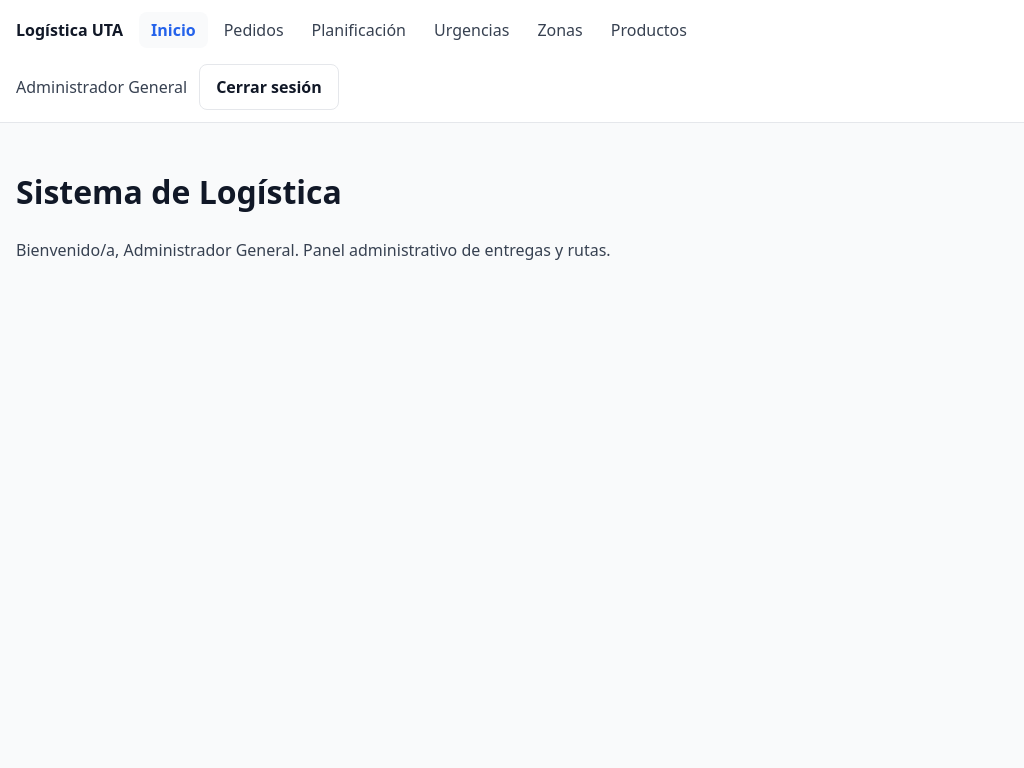
App › navega a Zonas desde el menú principal y marca la opción activa
What coordinates should you click on to do the following:
click the link "Zonas"
I would click on:
 (560, 30)
Its box is top-left (537, 19), bottom-right (583, 41).
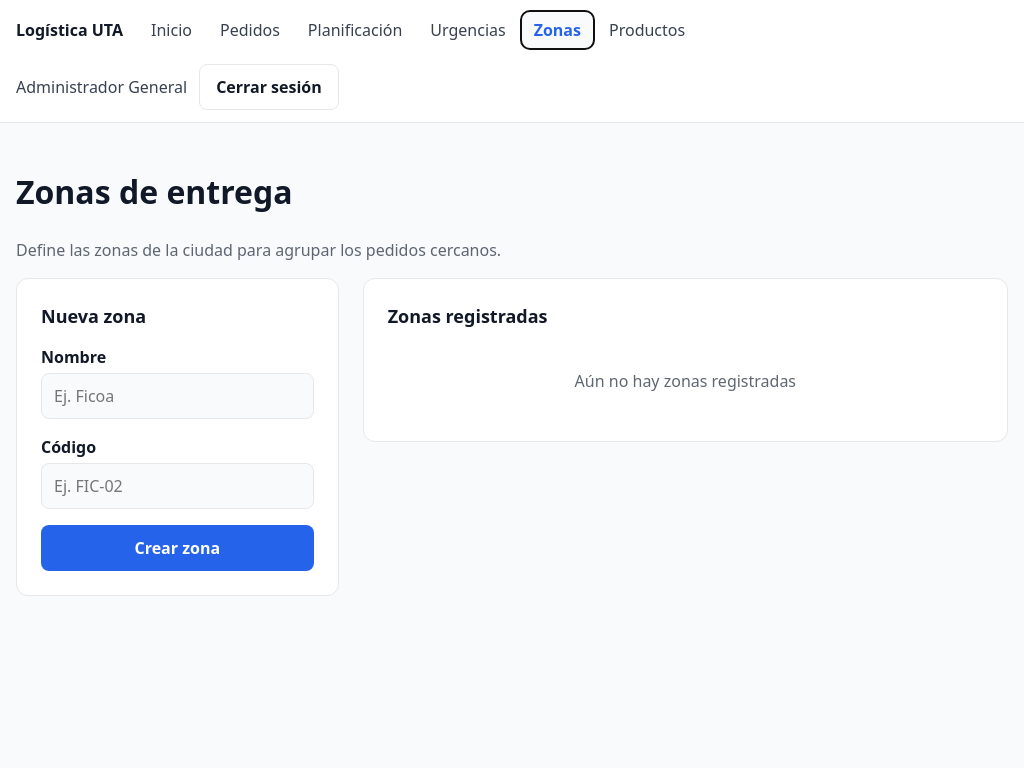
Expected: the heading "Zonas de entrega" is shown, top-left (16, 170), bottom-right (293, 213)
